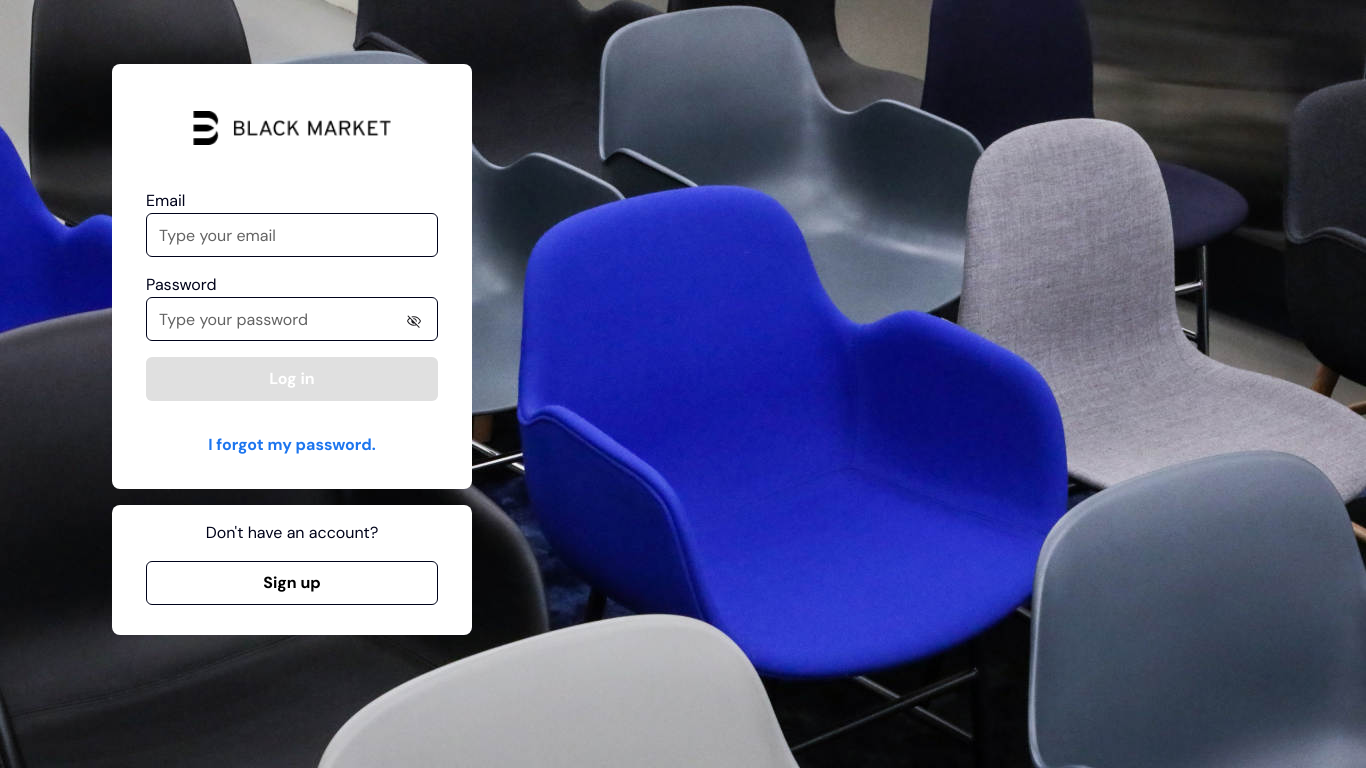
Scenario: Login › should display the error message if the form is invalid.
In the field labelled "Email": (292, 235) [146, 213, 438, 257], type "test@example.com"
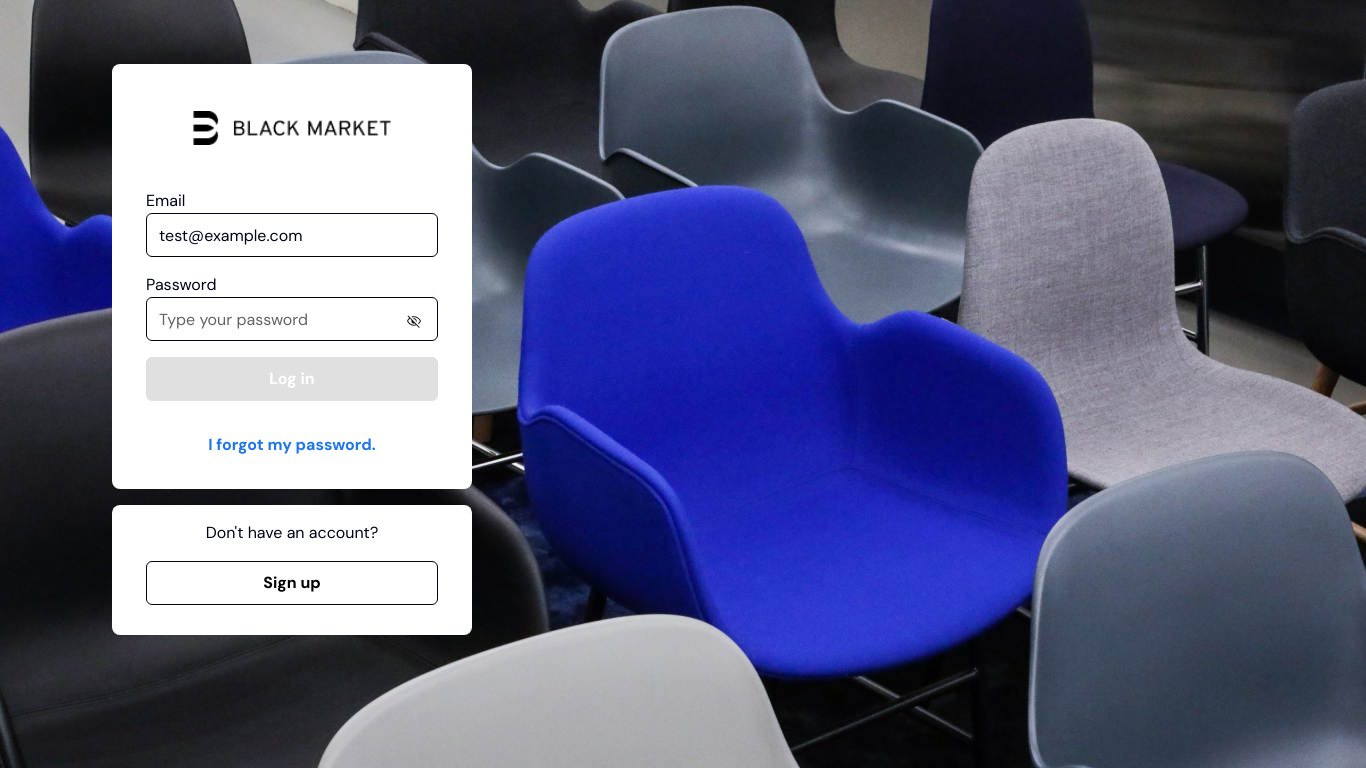
In the password field labelled "Password": (292, 319) [146, 297, 438, 341], type "MyPassword123"
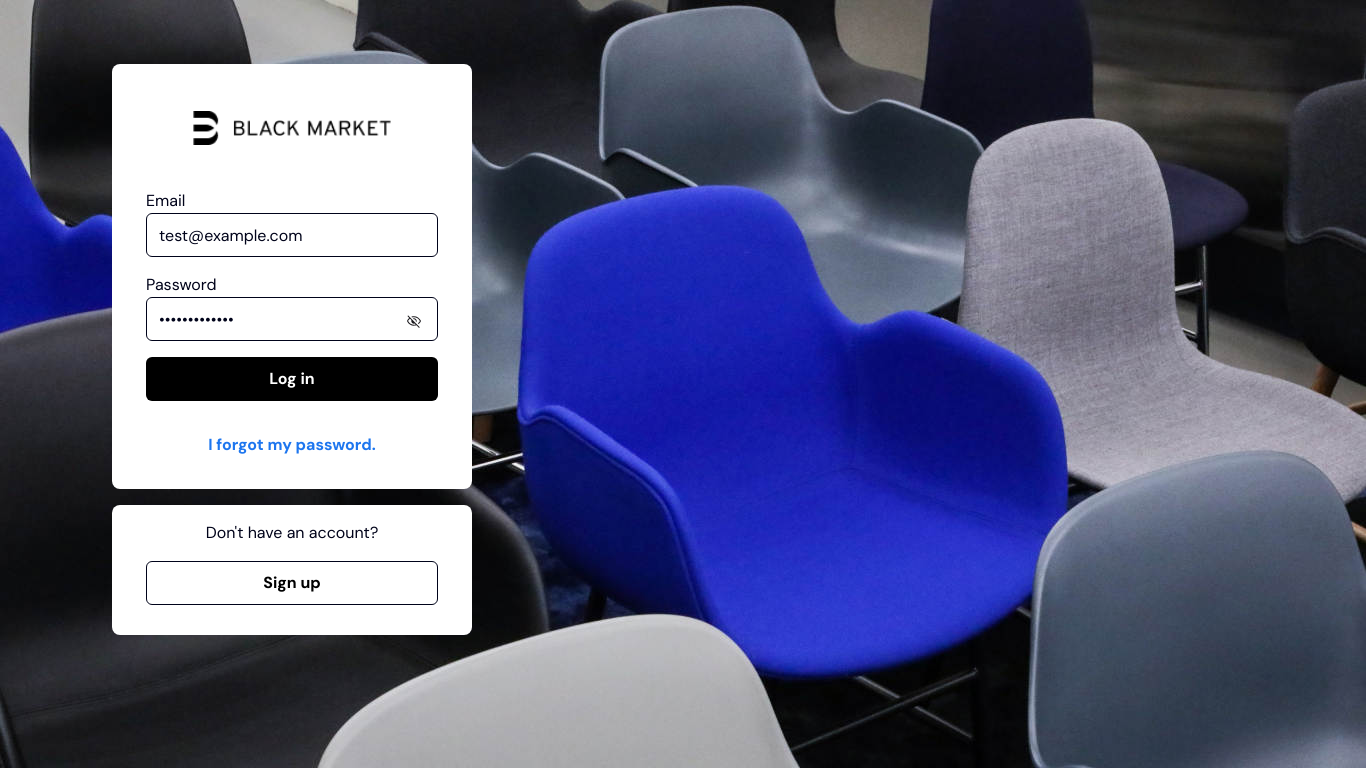
Click the button "Log in": (292, 379) [146, 357, 438, 401]
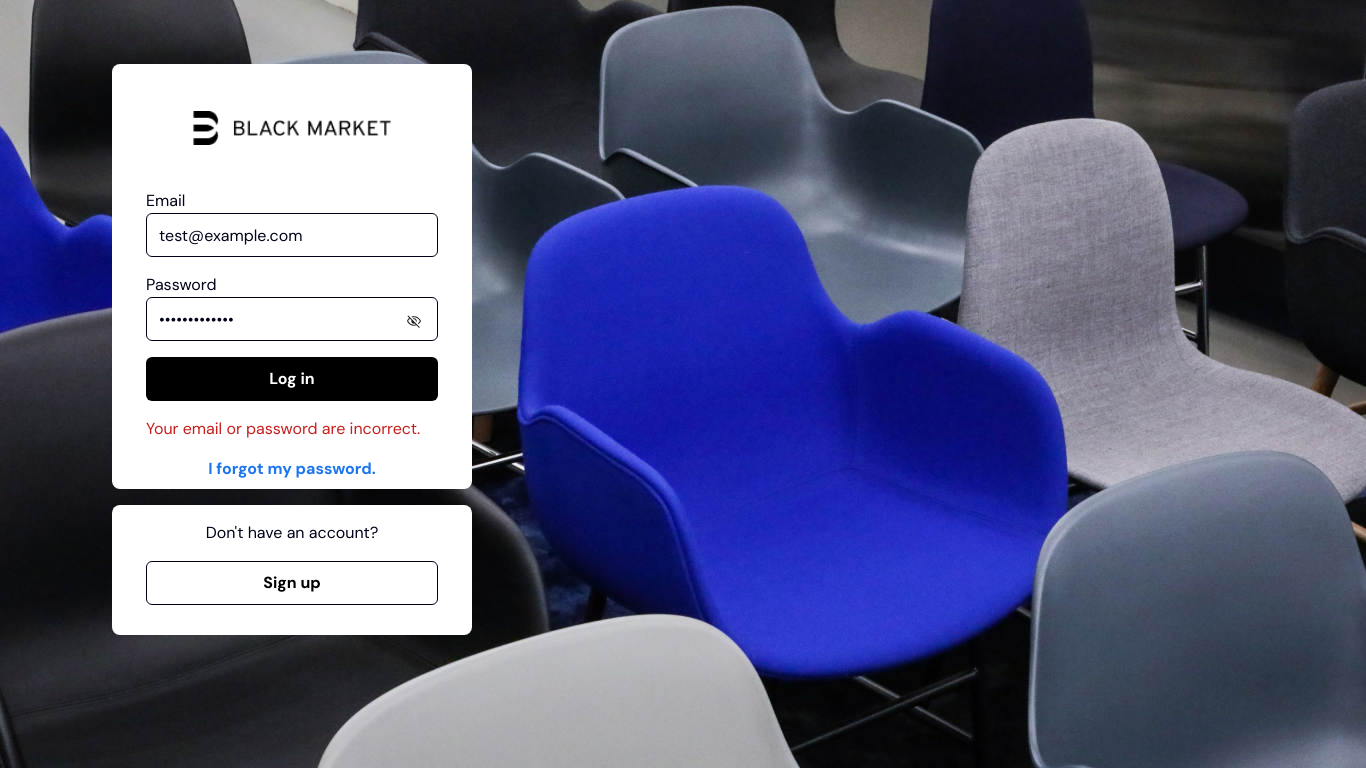
Check: the text "Your email or password are incorrect." is shown, box [146, 418, 420, 439]
